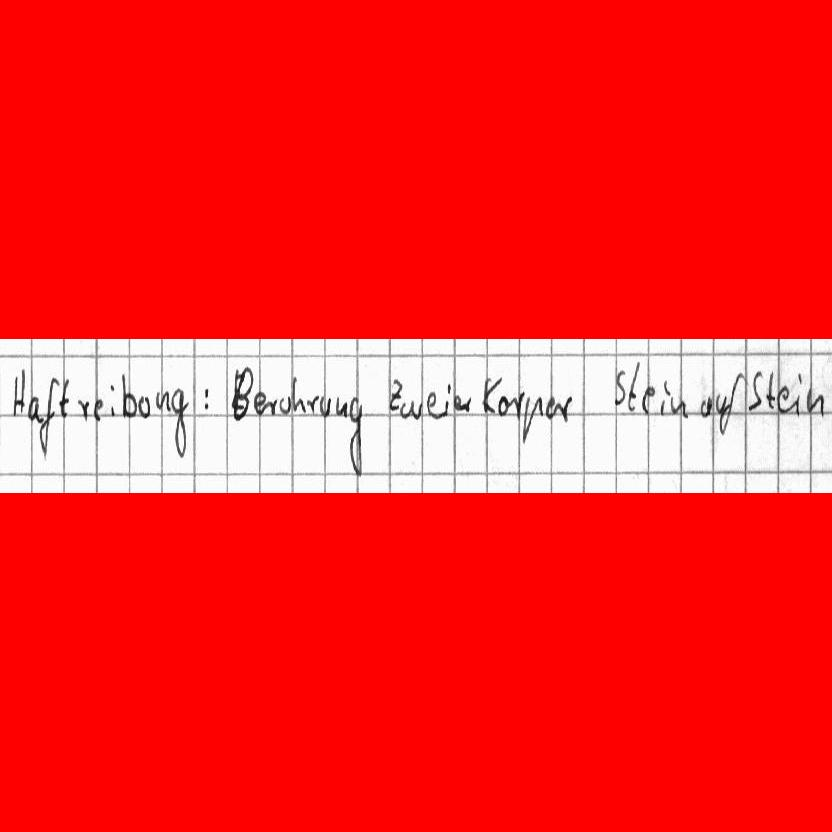Char: (39, 375, 59, 463), (170, 386, 190, 459), (346, 393, 363, 477), (723, 368, 744, 434), (520, 393, 544, 445), (232, 367, 253, 421), (479, 375, 500, 418), (10, 366, 26, 420), (627, 356, 641, 412), (120, 372, 136, 420), (746, 369, 763, 414), (612, 365, 627, 409), (790, 370, 803, 420), (804, 386, 824, 418), (291, 372, 306, 414), (553, 393, 573, 423), (26, 393, 45, 424), (399, 397, 423, 421), (58, 377, 71, 419), (388, 376, 402, 413), (641, 381, 655, 417), (765, 369, 777, 411), (659, 376, 671, 417), (776, 382, 791, 414), (509, 389, 524, 420), (424, 389, 438, 421), (670, 393, 687, 419), (153, 388, 171, 412), (76, 396, 92, 422), (442, 381, 452, 422), (137, 393, 153, 418), (93, 395, 107, 422), (697, 395, 713, 418), (277, 393, 292, 417), (496, 391, 509, 417), (317, 393, 331, 417), (544, 393, 556, 421), (107, 382, 116, 419), (334, 394, 347, 419), (254, 388, 265, 415), (306, 392, 318, 414), (715, 391, 726, 413), (463, 394, 475, 414), (268, 396, 278, 417), (453, 391, 463, 410), (202, 384, 209, 411)
